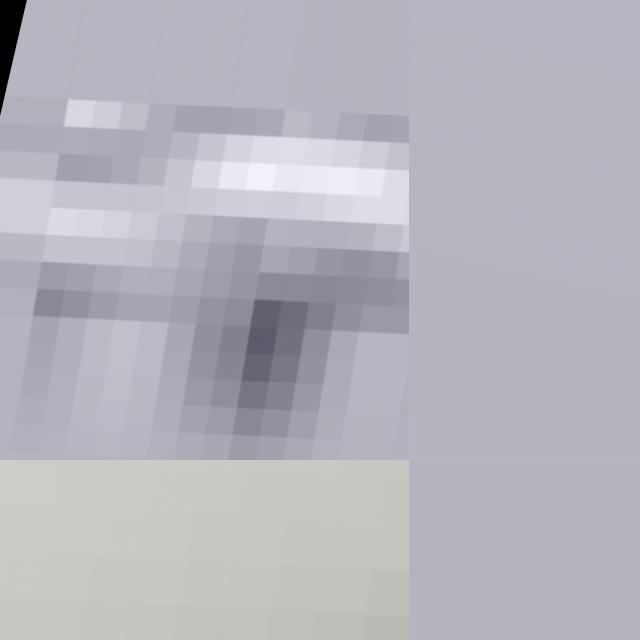0: (0, 0, 409, 460)
drone: (0, 460, 409, 640)
